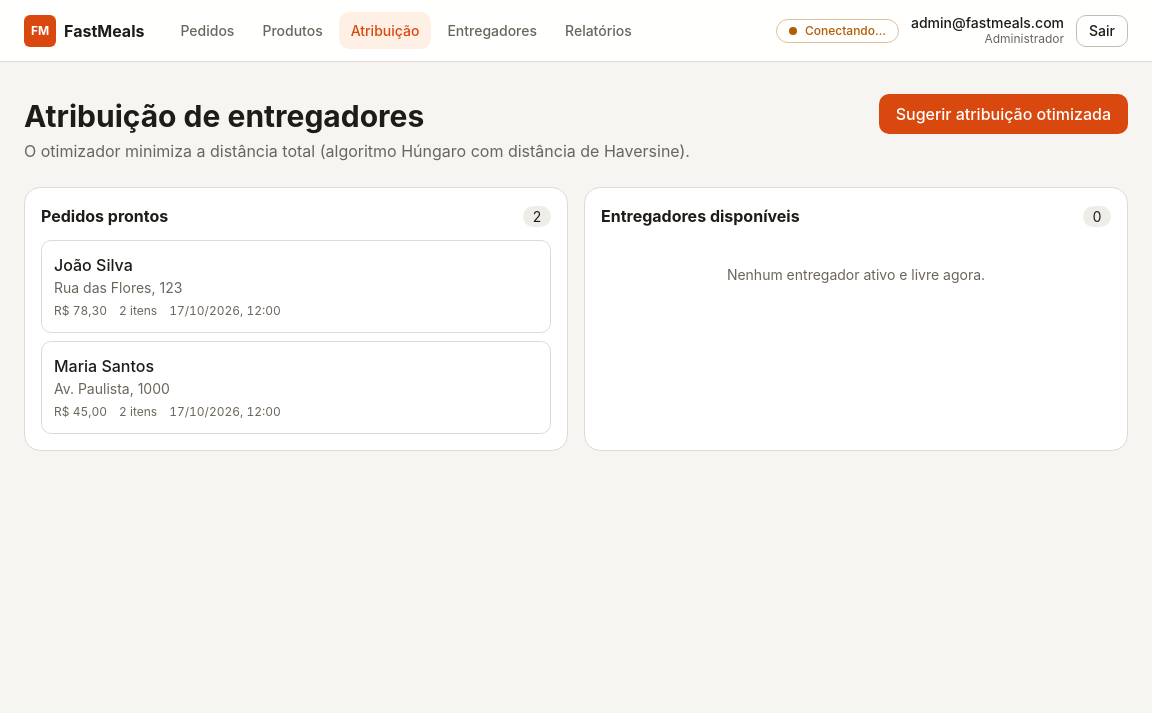
Scenario: Tela de atribuição › sem entregadores disponíveis: os pedidos ficam sem atribuição, com o motivo
The width and height of the screenshot is (1152, 713).
Expected: the text "Nenhum entregador ativo e livre agora." is shown, [727,266,985,283]
Click the button "Sugerir atribuição otimizada" at (1003, 114), box [879,94,1128,134]
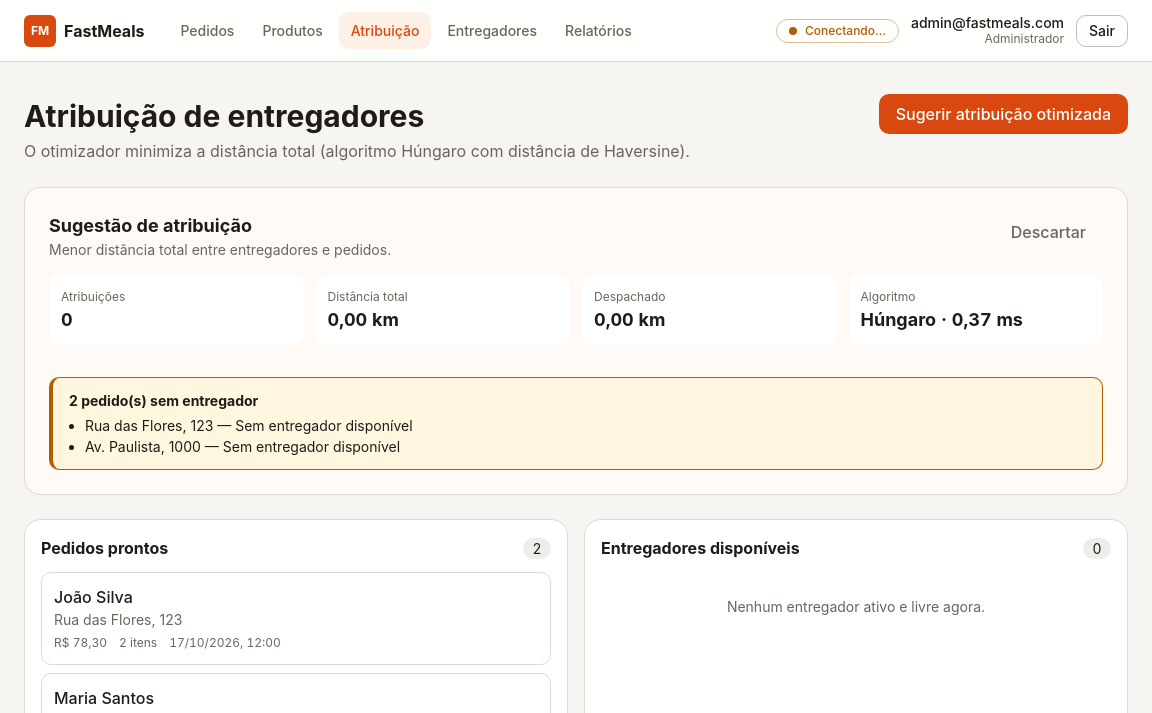
Expected: the text "2 pedido(s) sem entregador" shows "Rua das Flores, 123 — Sem entregador disponível", [49,377,1103,470]
